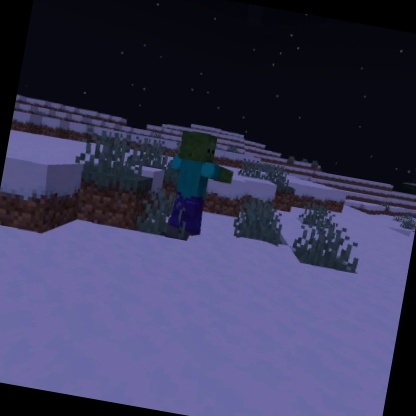zombie: (154, 125, 243, 246)
